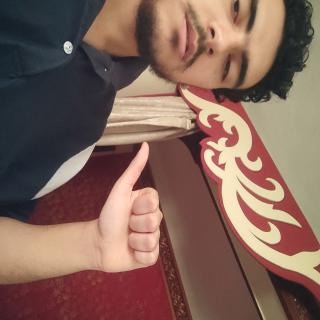DAD: (104, 208, 208, 310)
